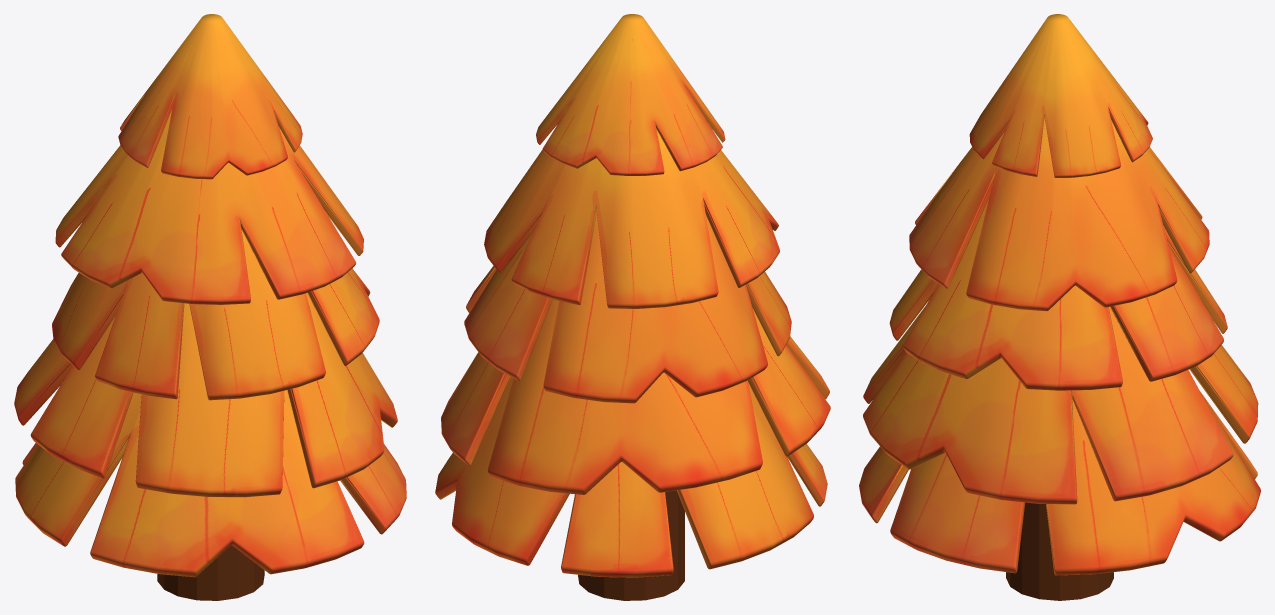
File: arbre-2.glb
3 views of the same model, side by side, from view 1: azimuth 30°, elevation 25°; view 2: azimuth 150°, elevation 25°; view 3: azimuth 270°, elevation 25° (orthographic).
Visible parts, largest first — view 1: Cylinder.003, Cylinder.005, Cylinder.001, Cylinder.004, Cylinder.007, Cylinder.002; view 2: Cylinder.003, Cylinder.005, Cylinder.001, Cylinder.004, Cylinder.007, Cylinder.002; view 3: Cylinder.003, Cylinder.005, Cylinder.001, Cylinder.004, Cylinder.007, Cylinder.002.
Boxes of the visible parts, x1,y1,x2,y2 form: Cylinder.003: (14, 293, 397, 497); Cylinder.005: (55, 110, 363, 304); Cylinder.001: (15, 390, 406, 577); Cylinder.004: (52, 230, 379, 400); Cylinder.007: (118, 14, 302, 179); Cylinder.002: (157, 545, 264, 600); Cylinder.003: (441, 299, 830, 494); Cylinder.005: (484, 130, 779, 308); Cylinder.001: (435, 377, 827, 577); Cylinder.004: (464, 213, 791, 403); Cylinder.007: (536, 14, 725, 175); Cylinder.002: (578, 490, 684, 600); Cylinder.003: (863, 306, 1258, 504); Cylinder.005: (909, 118, 1209, 311); Cylinder.001: (859, 391, 1260, 575); Cylinder.004: (889, 200, 1227, 390); Cylinder.007: (969, 14, 1152, 177); Cylinder.002: (1006, 502, 1113, 600).
Bounding box in the file's own units: 2.09 × 3.3 × 2.15.
2 materials, 1 textured.
